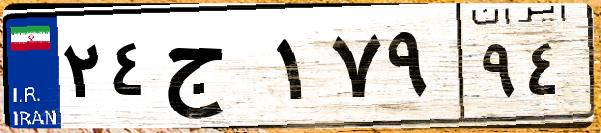1: (270, 28, 330, 110)
2: (57, 26, 110, 100)
4: (525, 38, 570, 115), (110, 28, 158, 98)
7: (330, 28, 385, 110)
9: (385, 28, 445, 110), (475, 38, 525, 113)
ج: (158, 20, 270, 120)
